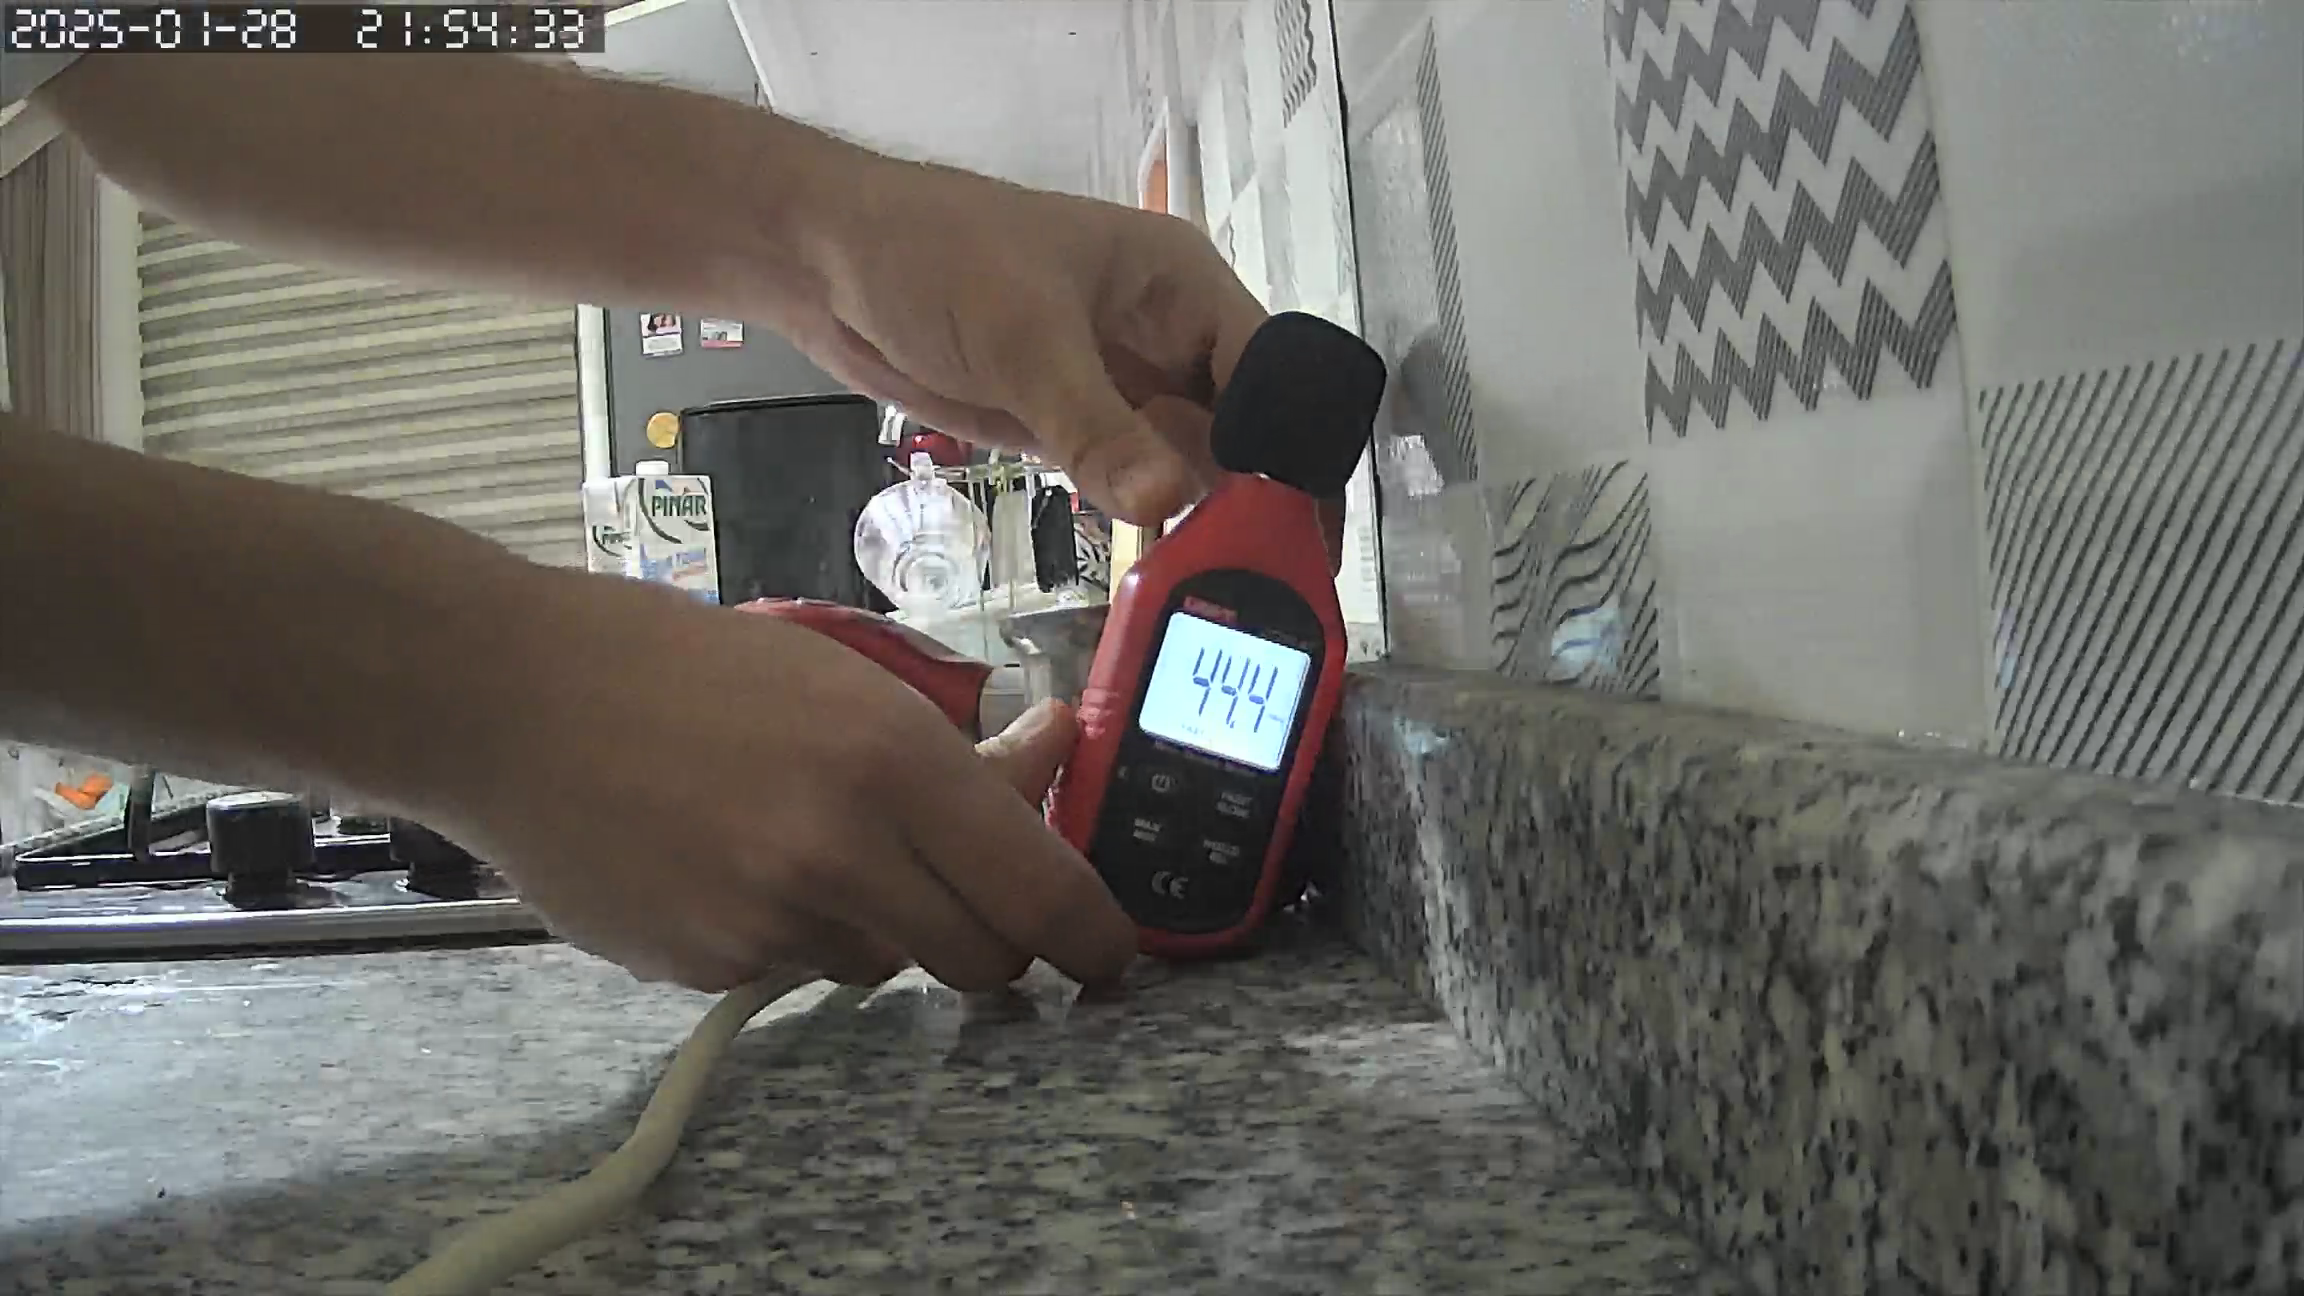screen: (1141, 616, 1317, 771)
